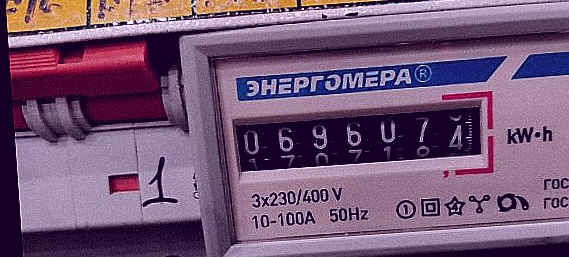0: (241, 125, 262, 155), (377, 114, 397, 143)
4: (445, 122, 465, 151)
6: (344, 117, 364, 146), (275, 124, 295, 152)
7: (412, 112, 433, 143)
9: (309, 121, 329, 150)
screen: (218, 85, 503, 191)
